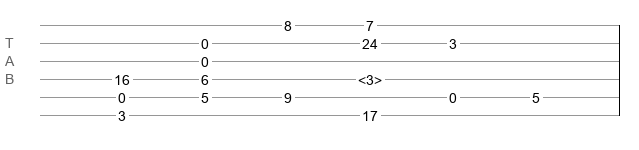0: (118, 90, 126, 100), (201, 54, 209, 64), (201, 36, 209, 46), (449, 90, 457, 100)
16: (114, 72, 130, 82)
17: (362, 108, 378, 118)
24: (362, 36, 378, 46)
3: (118, 108, 126, 118), (449, 36, 457, 46)
5: (201, 90, 209, 100), (532, 90, 540, 100)
6: (201, 72, 209, 82)
7: (366, 18, 374, 28)
8: (284, 18, 292, 28)
9: (284, 90, 292, 100)
harmonic: (358, 72, 382, 82)
